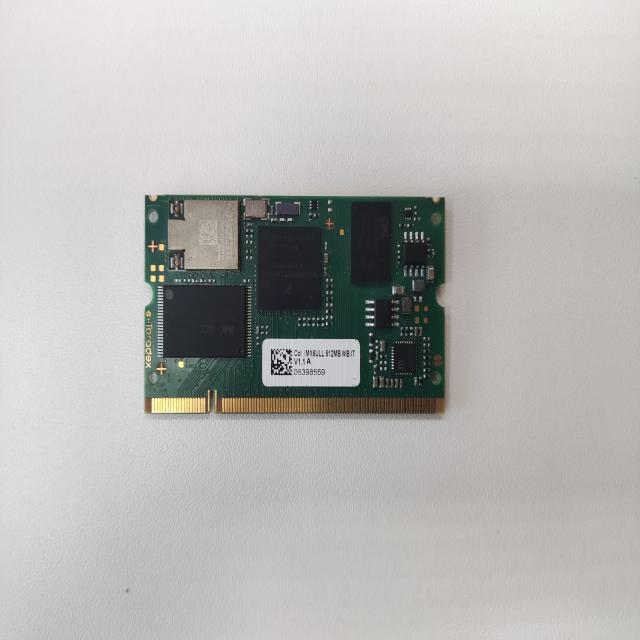som: (141, 183, 449, 420)
